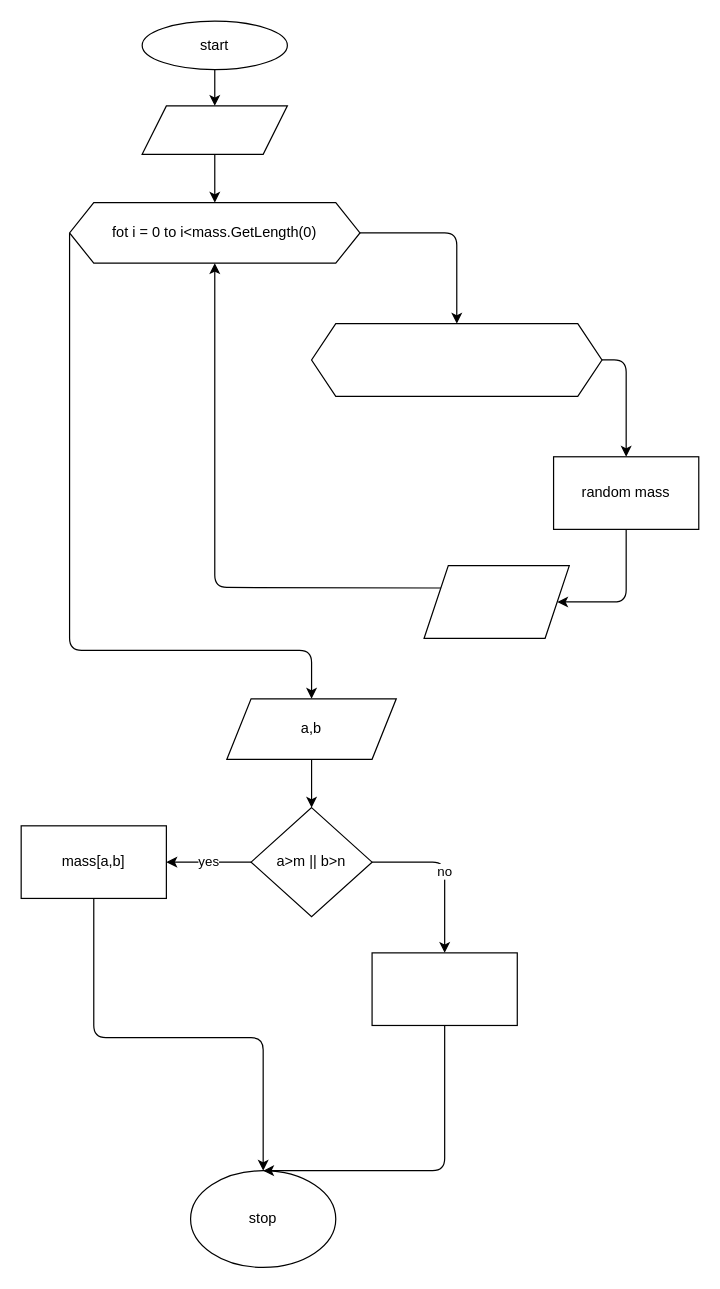
Some shapes in this 720 by 1289 pixel diagram are drawn without their labels. The shapes that lost their labels are listed below. From the top down, each one's box as (x1, y1, x2, y2) in pixels, then its label:
(141, 105, 287, 154): n,m
(310, 322, 602, 396): fot j = 0 to j<mass.GetLength(1)
(423, 564, 569, 638): mass
(371, 952, 517, 1025): числа нет
